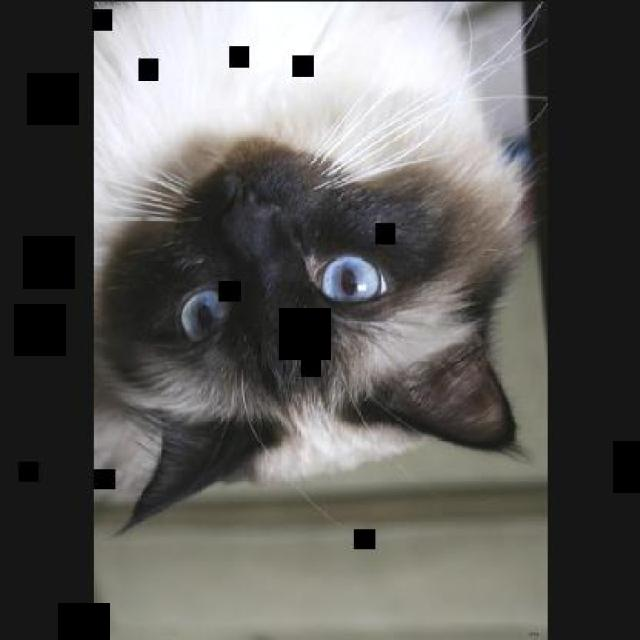unauthorized: (91, 0, 546, 537)
